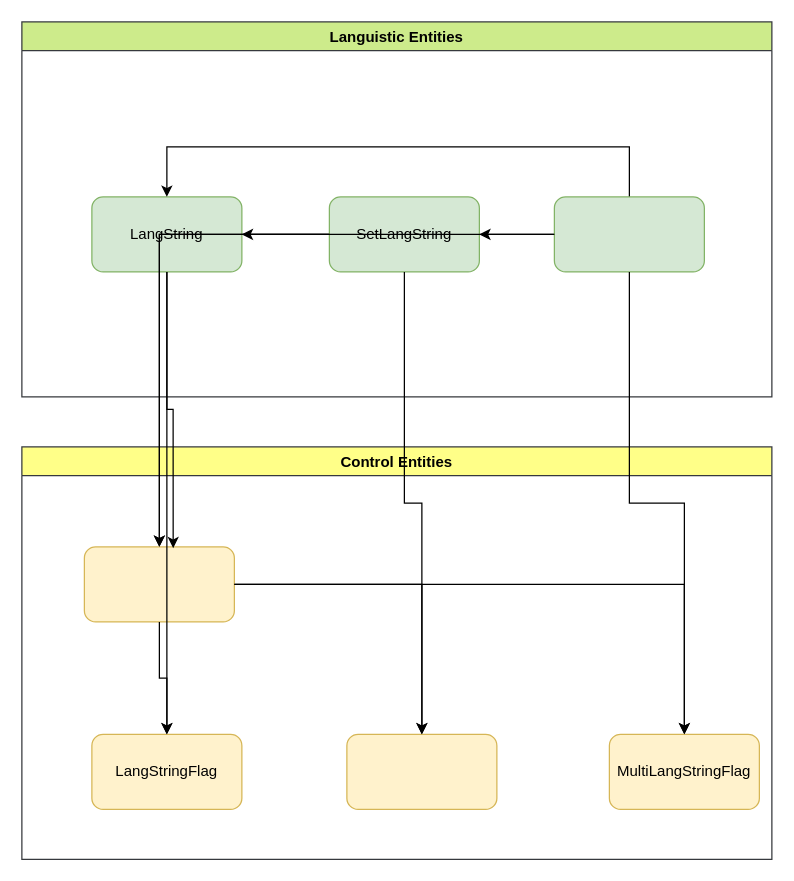
Image size: 794x881. Some labels were removed from this diagram. Here are the shapes that lost their labels. From the top down, the centre of each, then its label:
the point at 628,234: MultiLangString
the point at 158,584: Controller
the point at 421,771: SetLangStringFlag
